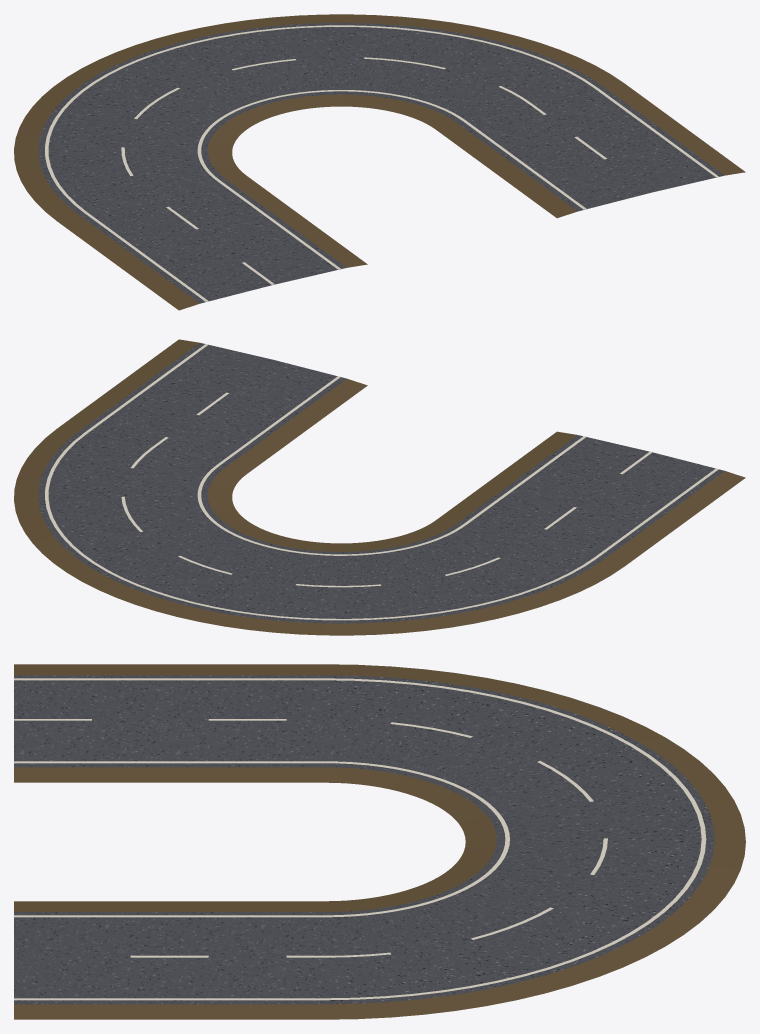
File: ENV_Road_Hairpin.fbx
The picture shows the model from 3 angles, top to bottom: view 1: azimuth 30°, elevation 25°; view 2: azimuth 150°, elevation 25°; view 3: azimuth 270°, elevation 25°; orthographic projection. The views are drawn at different scales.
Parts seen in each view (by area): view 1: ENV_Road_Hairpin_Surface, ENV_Road_Hairpin_Surface_Edges; view 2: ENV_Road_Hairpin_Surface, ENV_Road_Hairpin_Surface_Edges; view 3: ENV_Road_Hairpin_Surface, ENV_Road_Hairpin_Surface_Edges.
Boxes of the visible parts, x1=… form: ENV_Road_Hairpin_Surface: x1=38, y1=23, x2=724, y2=303; ENV_Road_Hairpin_Surface_Edges: x1=14, y1=14, x2=745, y2=310; ENV_Road_Hairpin_Surface: x1=38, y1=343, x2=724, y2=623; ENV_Road_Hairpin_Surface_Edges: x1=14, y1=339, x2=745, y2=635; ENV_Road_Hairpin_Surface: x1=14, y1=675, x2=714, y2=1004; ENV_Road_Hairpin_Surface_Edges: x1=14, y1=664, x2=745, y2=1019.
Bounding box in the file's own units: 27 × 0.132 × 23.5.
2 materials, 1 textured.
